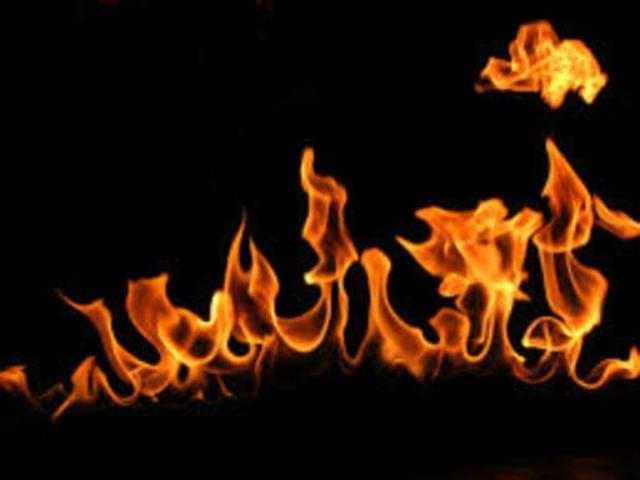fire: (289, 129, 640, 395), (58, 209, 284, 419), (472, 19, 609, 110), (1, 362, 35, 412)
